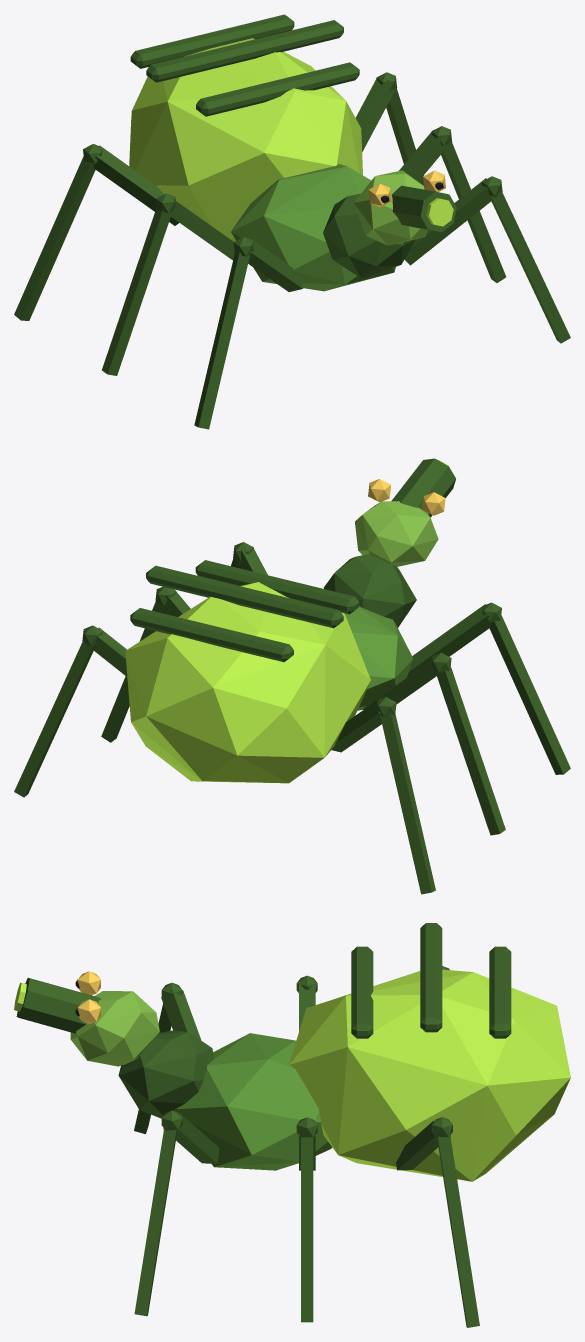
Rendered from ennemi_cracheur.glb.
The picture shows the model from 3 angles, top to bottom: view 1: azimuth 30°, elevation 25°; view 2: azimuth 150°, elevation 25°; view 3: azimuth 270°, elevation 25°; orthographic projection. The views are drawn at different scales.
Parts seen in each view (by area): view 1: corps_acide.002, corps_cracheur_sombre.002, pattes_a_cracheur_sombre.002, pattes_b_cracheur_sombre.002, corps_cracheur.002, corps_cracheur_clair.002, corps_oeil.006; view 2: corps_acide.002, corps_cracheur_sombre.002, pattes_a_cracheur_sombre.002, pattes_b_cracheur_sombre.002, corps_cracheur_clair.002, corps_cracheur.002, corps_oeil.006; view 3: corps_acide.002, corps_cracheur_sombre.002, corps_cracheur.002, pattes_b_cracheur_sombre.002, pattes_a_cracheur_sombre.002, corps_cracheur_clair.002, corps_oeil.006.
Part boxes in pixels (bbox=[...]): corps_acide.002: bbox=[129, 38, 453, 241]; corps_cracheur_sombre.002: bbox=[130, 14, 456, 277]; pattes_a_cracheur_sombre.002: bbox=[14, 126, 506, 429]; pattes_b_cracheur_sombre.002: bbox=[102, 72, 570, 375]; corps_cracheur.002: bbox=[231, 164, 395, 291]; corps_cracheur_clair.002: bbox=[354, 170, 427, 245]; corps_oeil.006: bbox=[368, 170, 445, 207]; corps_acide.002: bbox=[125, 460, 448, 783]; corps_cracheur_sombre.002: bbox=[130, 458, 455, 662]; pattes_a_cracheur_sombre.002: bbox=[101, 586, 570, 894]; pattes_b_cracheur_sombre.002: bbox=[14, 542, 505, 835]; corps_cracheur_clair.002: bbox=[355, 501, 438, 566]; corps_cracheur.002: bbox=[344, 606, 412, 710]; corps_oeil.006: bbox=[368, 479, 445, 515]; corps_acide.002: bbox=[14, 969, 570, 1181]; corps_cracheur_sombre.002: bbox=[16, 923, 511, 1118]; corps_cracheur.002: bbox=[174, 1033, 332, 1170]; pattes_b_cracheur_sombre.002: bbox=[134, 975, 479, 1327]; pattes_a_cracheur_sombre.002: bbox=[134, 966, 449, 1322]; corps_cracheur_clair.002: bbox=[70, 991, 159, 1066]; corps_oeil.006: bbox=[77, 971, 100, 1023].
Size of the model in its own units: 0.9243 by 0.5091 by 1.01.
